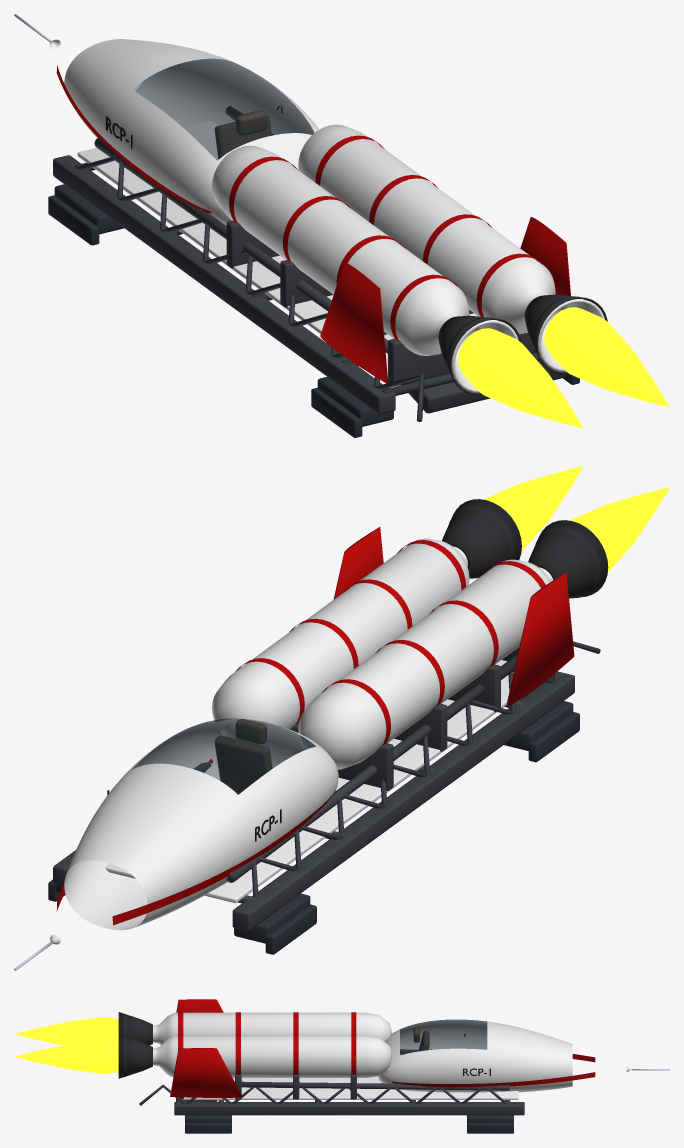
File: RocketSled.fbx
3 renders of one model, top to bottom at view 1: azimuth 30°, elevation 25°; view 2: azimuth 150°, elevation 25°; view 3: azimuth 270°, elevation 25°, orthographic. The views are drawn at different scales.
Parts seen in each view (by area): view 1: RocketSled_Body, RocketSled_Trim, RocketSled_Lights, RocketSled_Glass; view 2: RocketSled_Body, RocketSled_Trim, RocketSled_Glass, RocketSled_Lights; view 3: RocketSled_Body, RocketSled_Trim, RocketSled_Lights, RocketSled_Glass.
Part boxes in pixels (x1=…): RocketSled_Body: x1=50, y1=39, x2=604, y2=393; RocketSled_Trim: x1=14, y1=14, x2=607, y2=437; RocketSled_Lights: x1=458, y1=307, x2=669, y2=428; RocketSled_Glass: x1=133, y1=59, x2=314, y2=160; RocketSled_Body: x1=50, y1=527, x2=574, y2=944; RocketSled_Trim: x1=14, y1=499, x2=608, y2=970; RocketSled_Glass: x1=133, y1=718, x2=315, y2=794; RocketSled_Lights: x1=483, y1=466, x2=669, y2=572; RocketSled_Body: x1=153, y1=999, x2=630, y2=1099; RocketSled_Trim: x1=118, y1=1012, x2=669, y2=1133; RocketSled_Lights: x1=14, y1=1016, x2=118, y2=1073; RocketSled_Glass: x1=400, y1=1019, x2=487, y2=1054.
Size of the model in its own units: 6.55 by 4.15 by 30.7.
